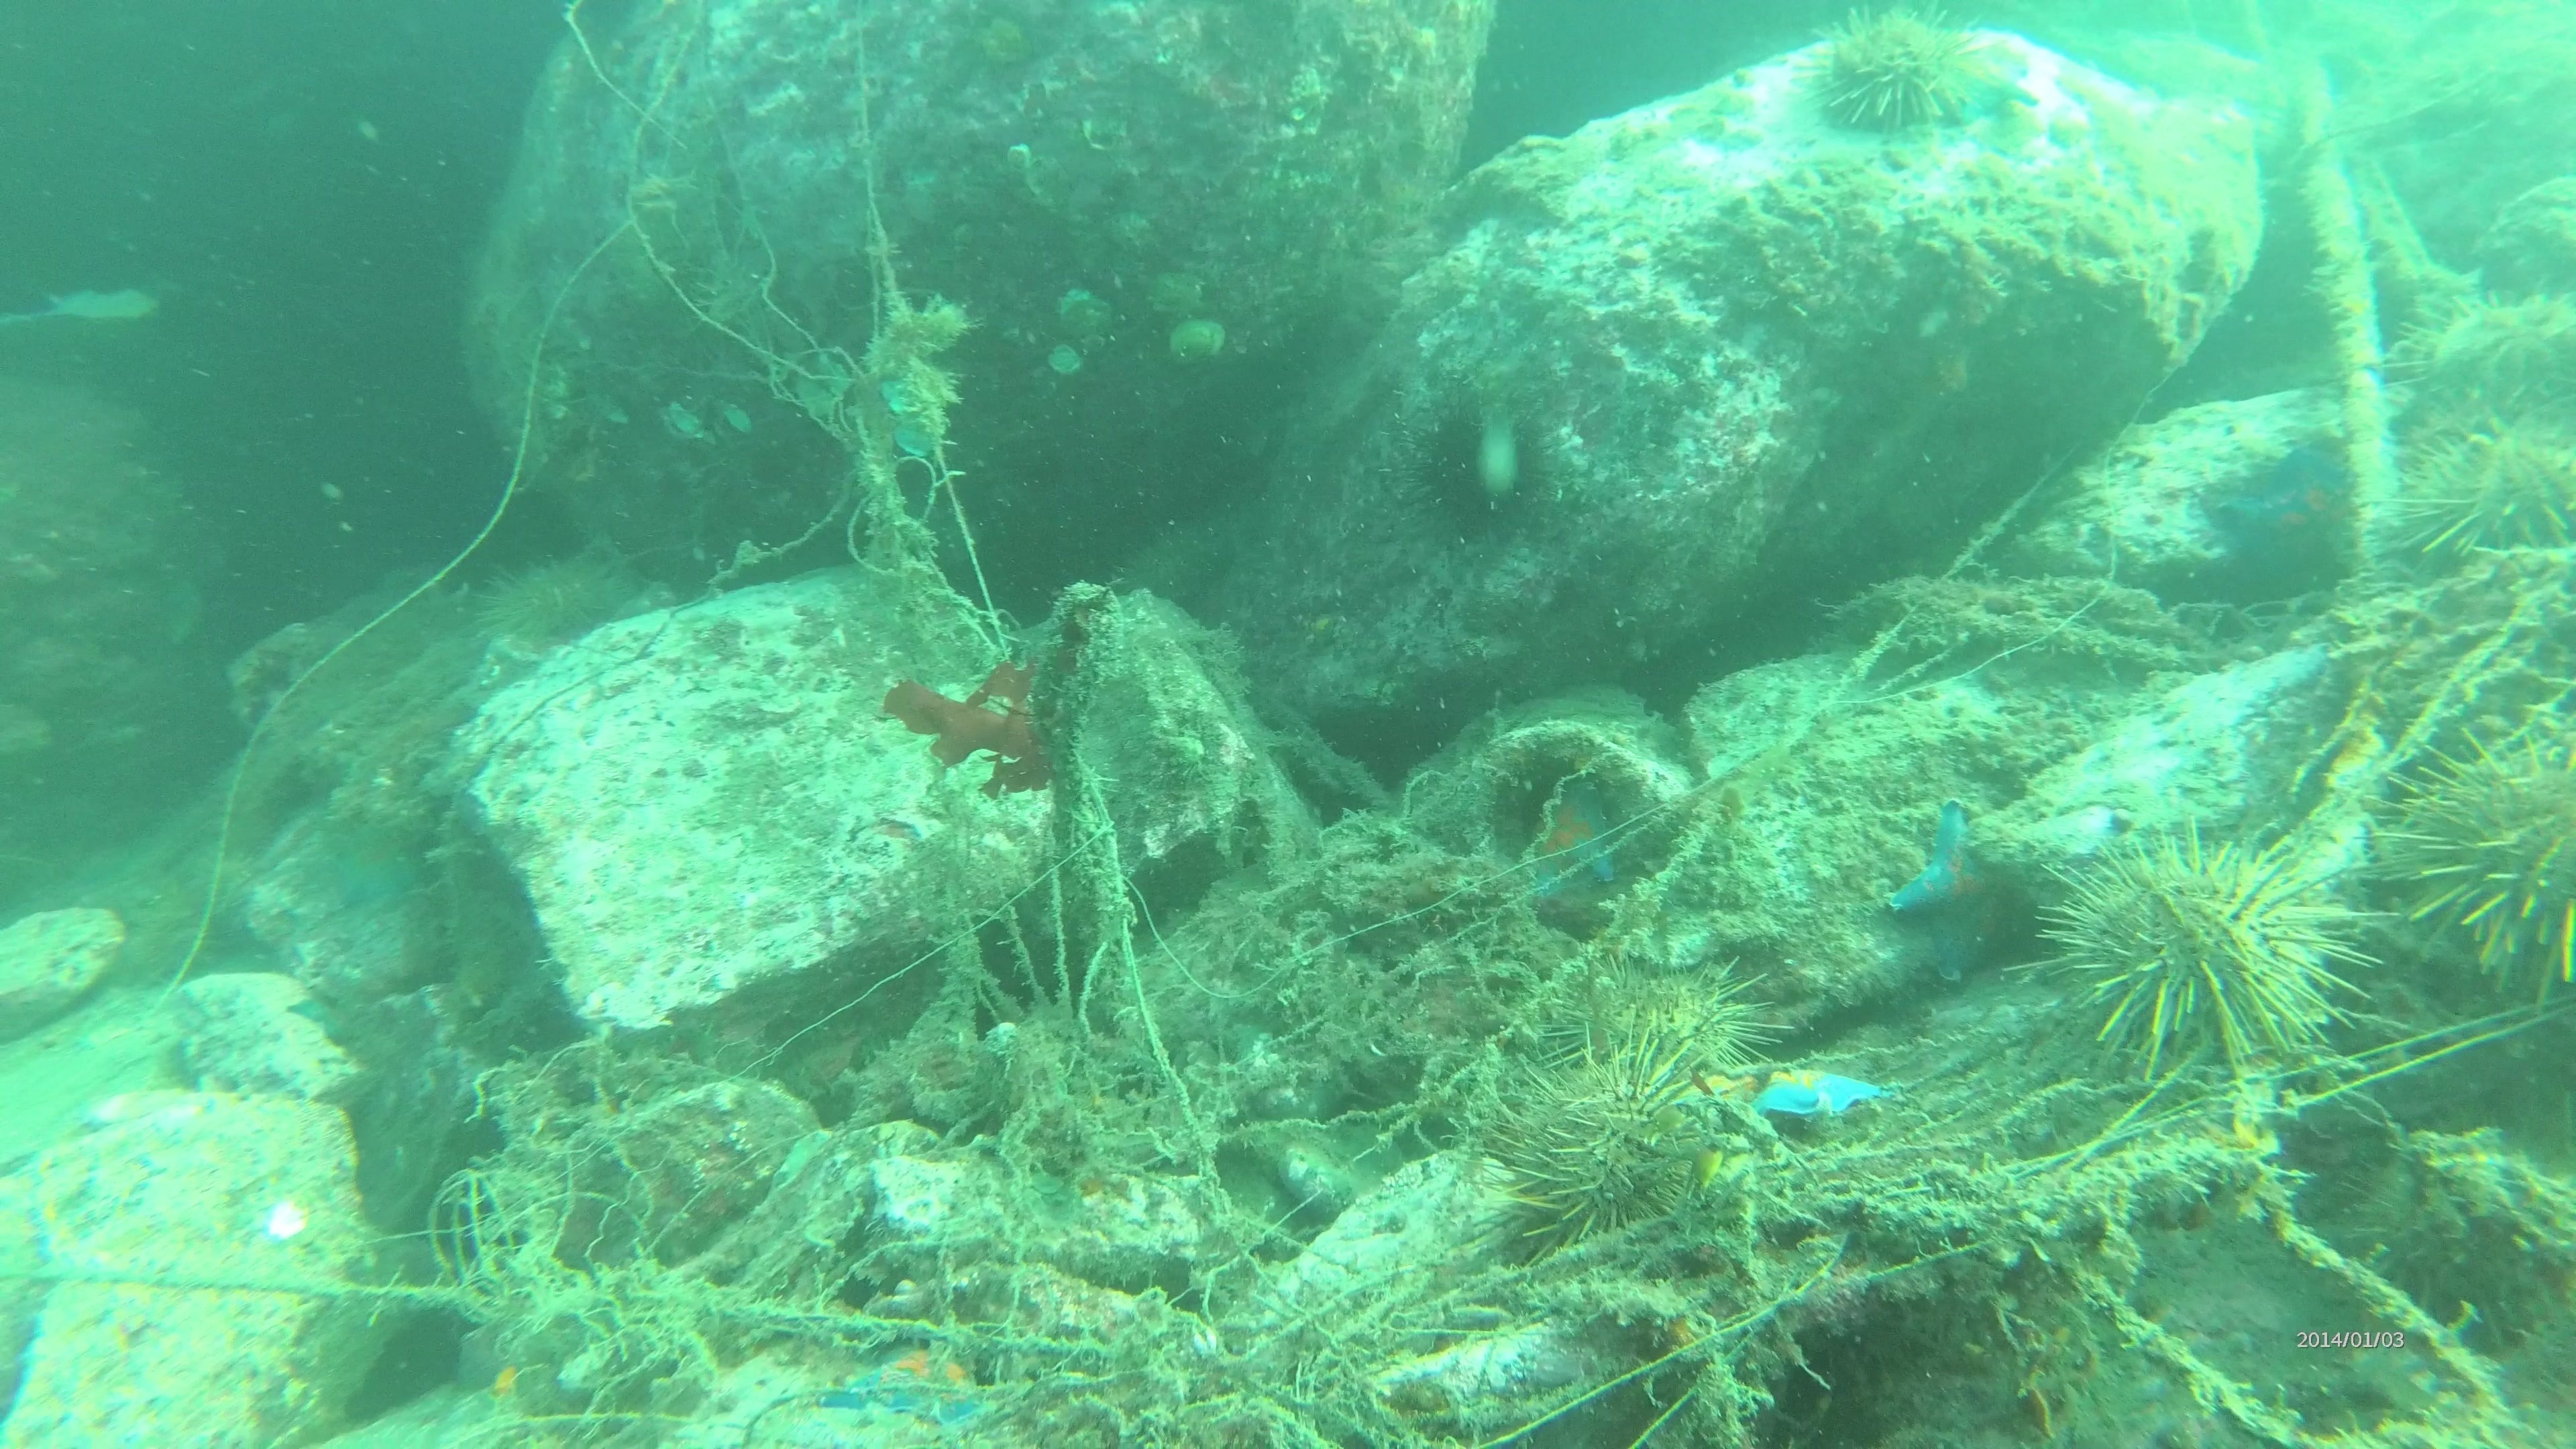echinus: (2035, 823, 2367, 1088), (2374, 706, 2574, 1001), (1488, 1031, 1718, 1256), (1571, 950, 1776, 1097), (2399, 407, 2576, 570), (1799, 5, 1997, 145), (2396, 278, 2574, 414), (1405, 396, 1543, 548), (1999, 566, 2173, 686), (471, 545, 640, 662)
starfish: (1879, 798, 2059, 987), (2199, 446, 2385, 577), (821, 1330, 1014, 1433), (1514, 773, 1638, 901), (306, 810, 435, 920), (1748, 1054, 1893, 1129), (1932, 28, 2040, 124)
